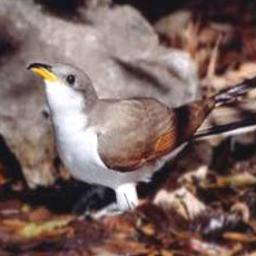Cuckoo: (27, 62, 256, 214)
